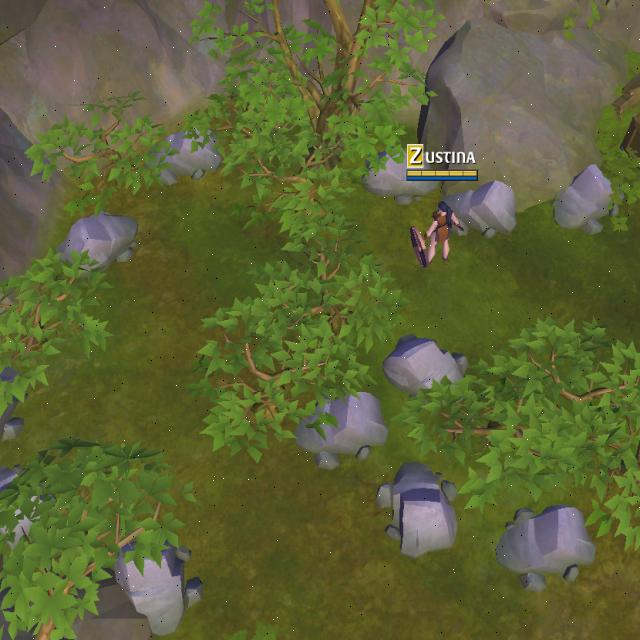stone: (366, 446, 468, 559), (113, 526, 212, 638), (287, 384, 404, 477), (492, 500, 603, 590), (43, 209, 157, 292), (379, 330, 473, 410), (357, 140, 443, 210), (144, 128, 224, 190), (447, 176, 518, 243), (548, 172, 626, 232)
